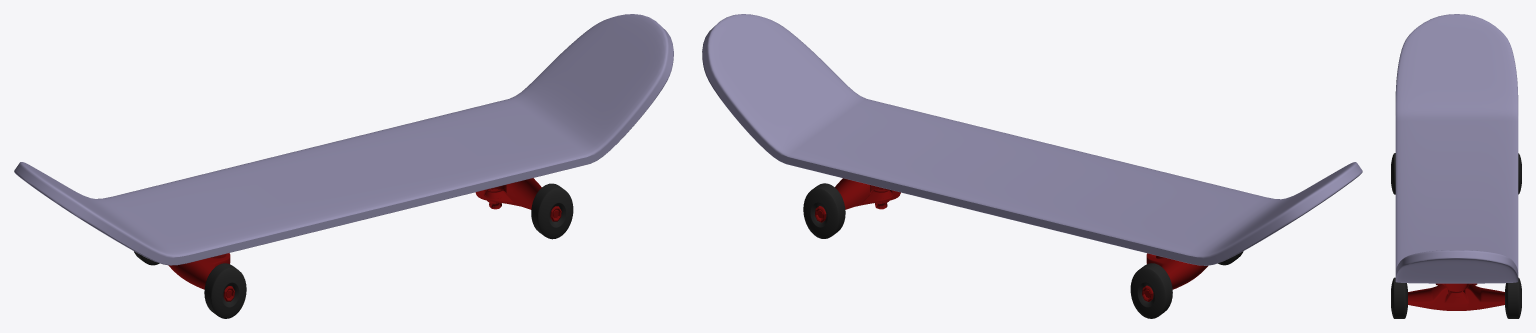
3 renders of one model, left to right at view 1: azimuth 30°, elevation 25°; view 2: azimuth 150°, elevation 25°; view 3: azimuth 270°, elevation 25°, orthographic. The views are drawn at different scales.
Visible parts, largest first — view 1: 滑板, 轮子, group31_group30_pPlane8, group31_group30_polySurface59; view 2: 滑板, 轮子, group31_group30_pPlane8, group31_group30_polySurface59; view 3: 滑板, group31_group30_pPlane8, 轮子.
Boxes of the visible parts, left/top/right/bottom form: 滑板: left=14, top=14, right=673, bottom=265; 轮子: left=134, top=183, right=573, bottom=318; group31_group30_pPlane8: left=475, top=178, right=561, bottom=221; group31_group30_polySurface59: left=168, top=253, right=234, bottom=301; 滑板: left=702, top=14, right=1362, bottom=265; 轮子: left=803, top=183, right=1243, bottom=318; group31_group30_pPlane8: left=815, top=178, right=900, bottom=222; group31_group30_polySurface59: left=1142, top=253, right=1207, bottom=301; 滑板: left=1395, top=14, right=1518, bottom=283; group31_group30_pPlane8: left=1408, top=283, right=1504, bottom=310; 轮子: left=1391, top=153, right=1521, bottom=318.
Bounding box in the file's own units: 75.11 × 17.5 × 17.18.
